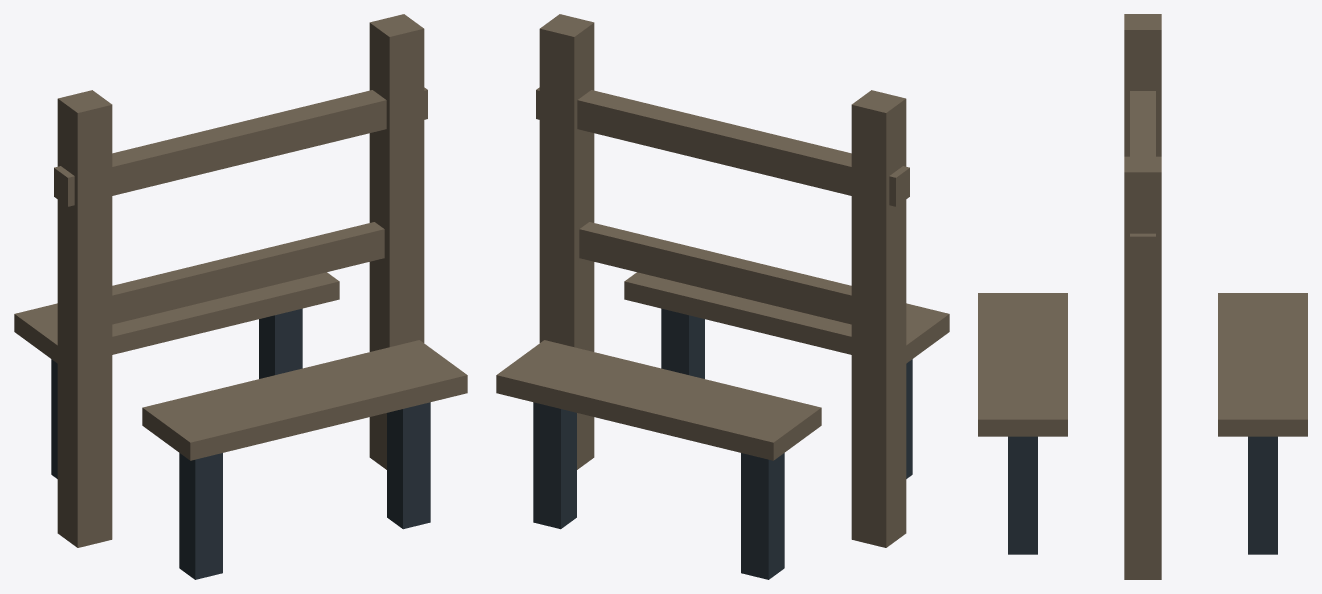
Rendered from boundary.gate.stile_b.glb.
The picture shows the model from 3 angles, left to right: view 1: azimuth 30°, elevation 25°; view 2: azimuth 150°, elevation 25°; view 3: azimuth 270°, elevation 25°; orthographic projection. The views are drawn at different scales.
Parts seen in each view (by area): view 1: main__glaze_765, main__galv_765, main__glass_dark; view 2: main__glaze_765, main__galv_765, main__glass_dark; view 3: main__glaze_765, main__glass_dark, main__galv_765.
Boxes of the visible parts, left/top/right/bottom form: main__glaze_765: left=14, top=14, right=467, bottom=547; main__galv_765: left=54, top=87, right=427, bottom=324; main__glass_dark: left=51, top=308, right=430, bottom=579; main__glaze_765: left=496, top=14, right=949, bottom=547; main__galv_765: left=536, top=87, right=909, bottom=324; main__glass_dark: left=533, top=308, right=912, bottom=579; main__glaze_765: left=978, top=14, right=1307, bottom=579; main__glass_dark: left=1008, top=436, right=1277, bottom=554; main__galv_765: left=1130, top=91, right=1155, bottom=263.
Bounding box in the file's own units: 1.04 × 1.2 × 0.88.
